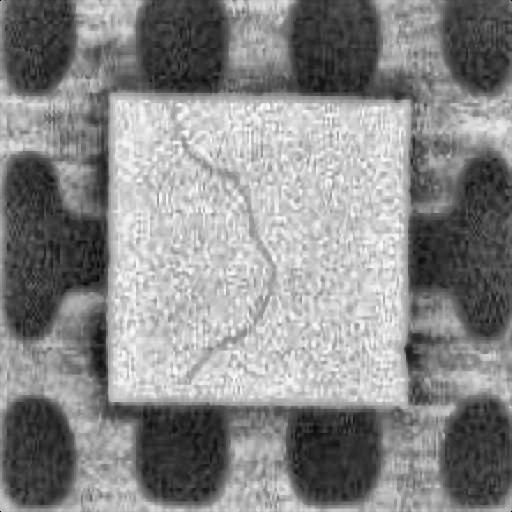DIE_CRACK: (168, 100, 274, 371)
